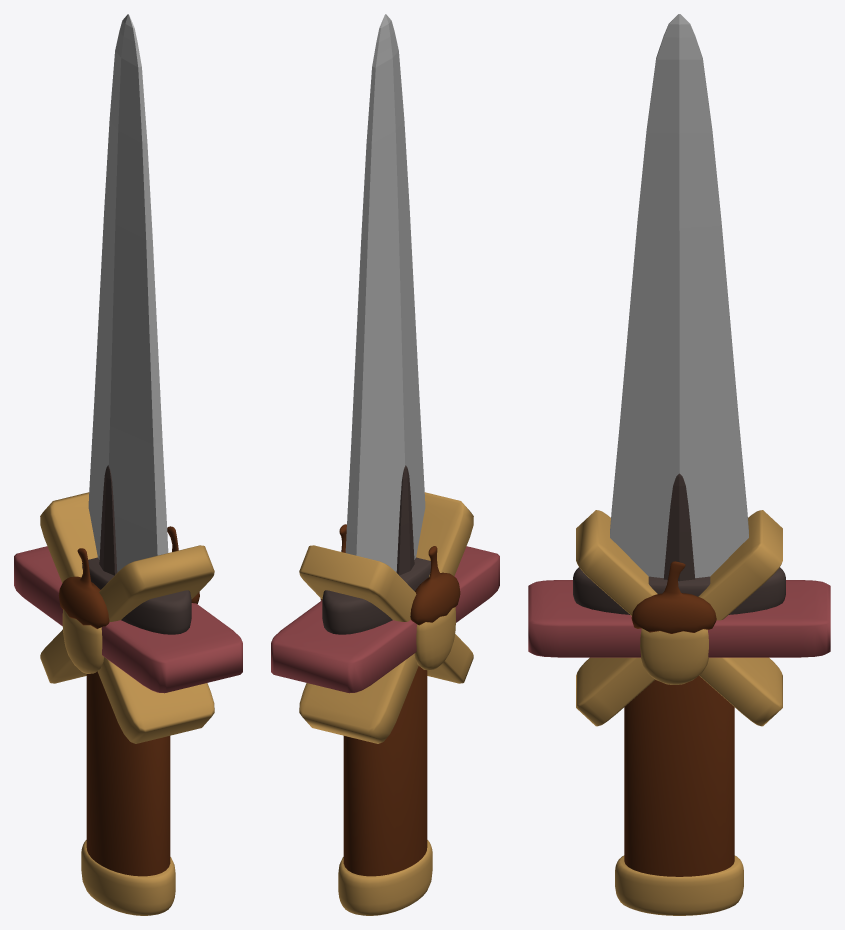
File: Sword.fbx
3 renders of one model, left to right at view 1: azimuth 30°, elevation 25°; view 2: azimuth 150°, elevation 25°; view 3: azimuth 270°, elevation 25°, orthographic.
Visible parts, largest first — view 1: 立方體, 立方體.002, 圓柱體, 立方體.001, 圓柱體.002, 圓柱體.003, Acorn.002, Acorn.003, 立方體.004; view 2: 立方體, 立方體.002, 圓柱體, 立方體.001, 圓柱體.002, 圓柱體.003, Acorn.002, Acorn.003, 立方體.004; view 3: 立方體, 圓柱體, 立方體.002, 立方體.001, 圓柱體.002, Acorn.001, Acorn, 圓柱體.003, 立方體.003.
Part boxes in pixels (x1,y1,x2,y2): 立方體: (88, 14, 168, 572); 立方體.002: (40, 492, 214, 743); 圓柱體: (86, 671, 170, 876); 立方體.001: (14, 546, 242, 693); 圓柱體.002: (81, 840, 175, 915); 圓柱體.003: (82, 557, 191, 634); Acorn.002: (58, 548, 109, 628); Acorn.003: (62, 609, 104, 673); 立方體.004: (99, 465, 117, 575); 立方體: (345, 14, 425, 572); 立方體.002: (299, 492, 473, 743); 圓柱體: (343, 666, 427, 876); 立方體.001: (271, 546, 499, 693); 圓柱體.002: (338, 840, 432, 915); 圓柱體.003: (322, 557, 430, 634); Acorn.002: (410, 546, 460, 625); Acorn.003: (414, 607, 455, 670); 立方體.004: (396, 465, 414, 575); 立方體: (610, 14, 748, 578); 圓柱體: (624, 676, 734, 876); 立方體.002: (576, 510, 782, 726); 立方體.001: (528, 580, 830, 657); 圓柱體.002: (615, 855, 743, 915); Acorn.001: (631, 561, 716, 633); Acorn: (640, 628, 708, 684); 圓柱體.003: (573, 567, 785, 614); 立方體.003: (663, 473, 695, 581).
Bounding box in the file's own units: 78.9 × 554 × 171.
